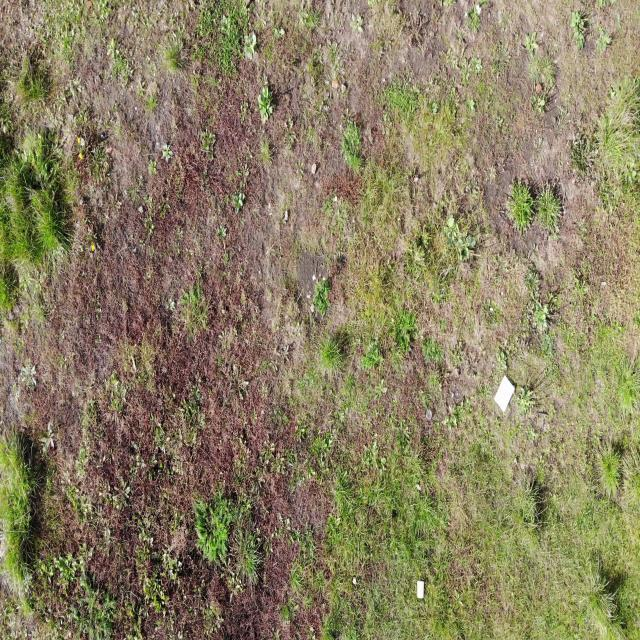rubbish: (493, 375, 515, 415), (417, 581, 425, 601)
